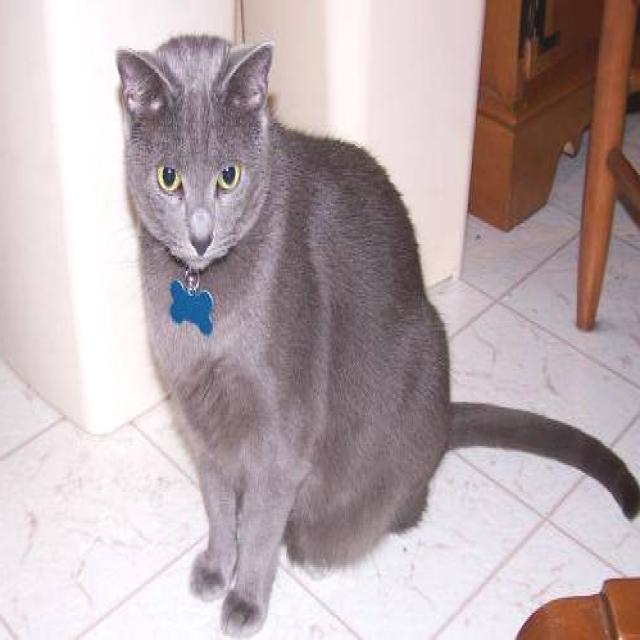Kucing: (42, 0, 520, 640)
